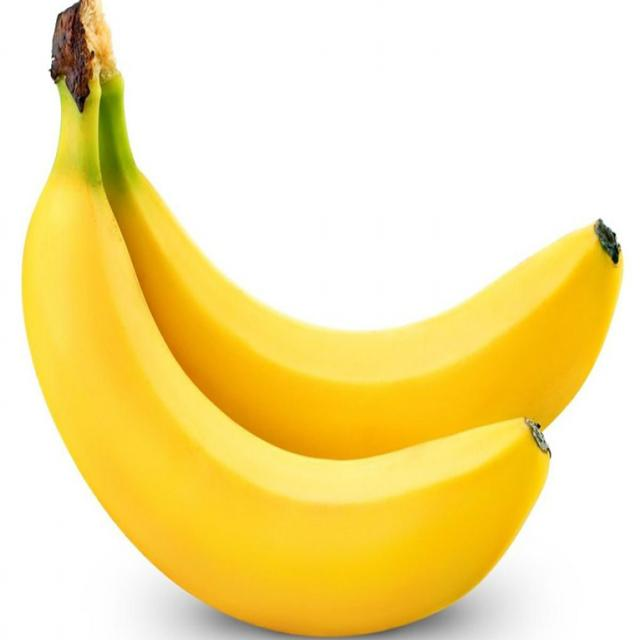banana: (20, 0, 628, 637)
